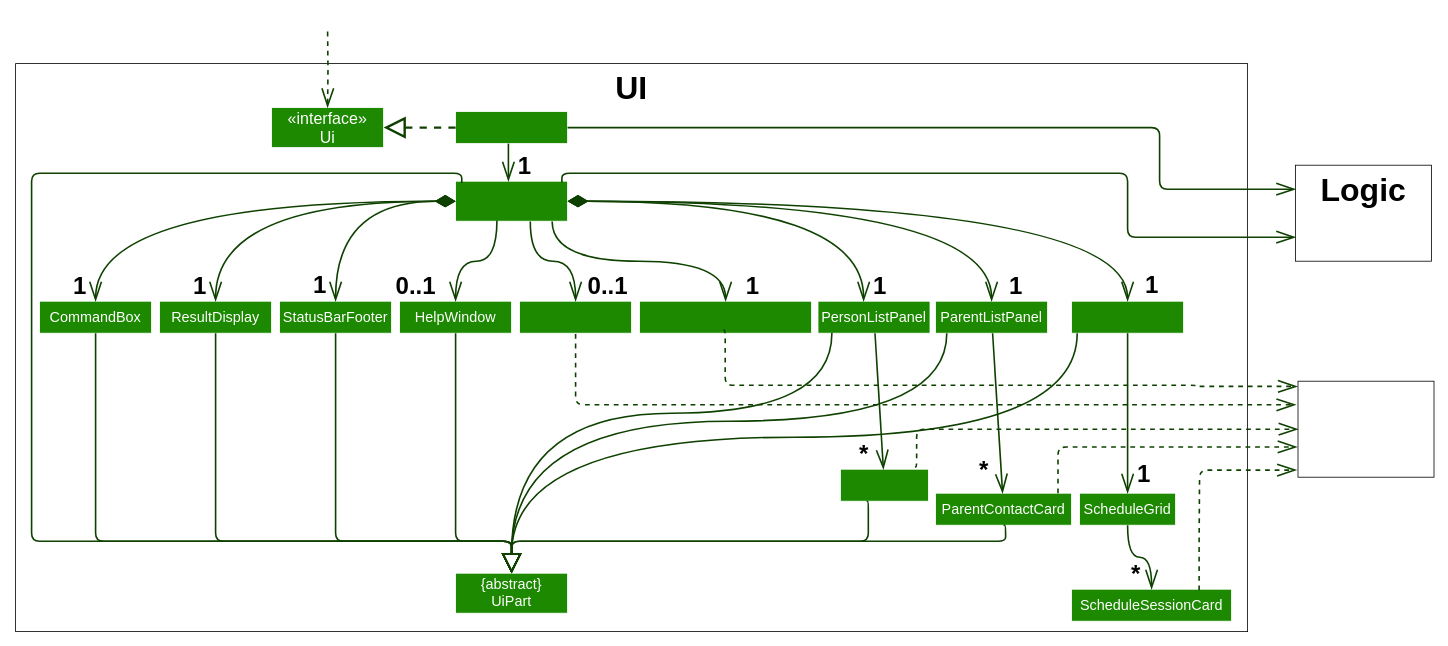
Image size: 1448x646. Some labels were removed from this diagram. Here are the shapes that lost their labels. From the top down, the box of each, then its label:
(455, 111, 568, 144): UiManager
(455, 180, 568, 221): MainWindow
(519, 300, 632, 333): ReminderDialog
(639, 300, 812, 333): ReminderAlertScheduler
(1071, 300, 1184, 333): SchedulePanel
(1297, 380, 1434, 477): Model
(840, 468, 928, 501): PersonCard
